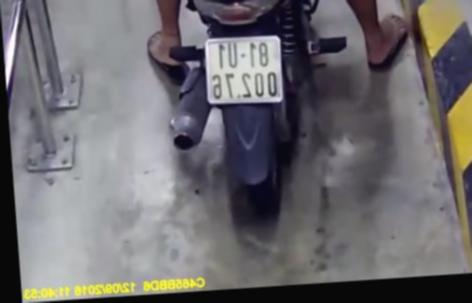License_Plate: (197, 30, 292, 112)
